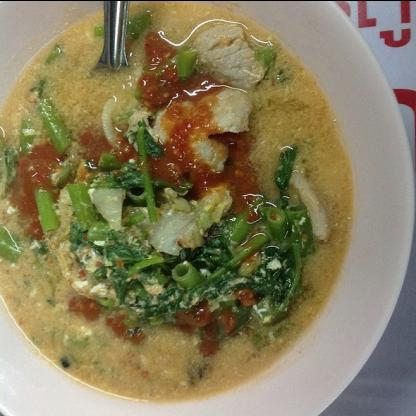Suki: (2, 12, 346, 398)
